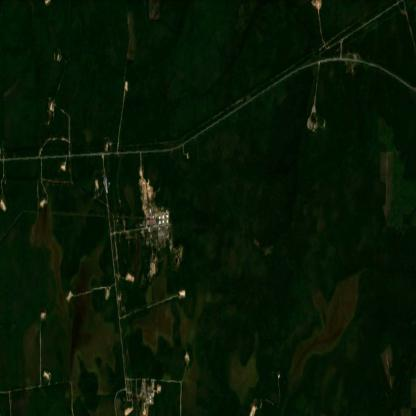oil: (97, 173, 115, 200)
